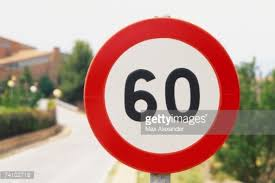Speed_limit_60km: (83, 17, 240, 175)
